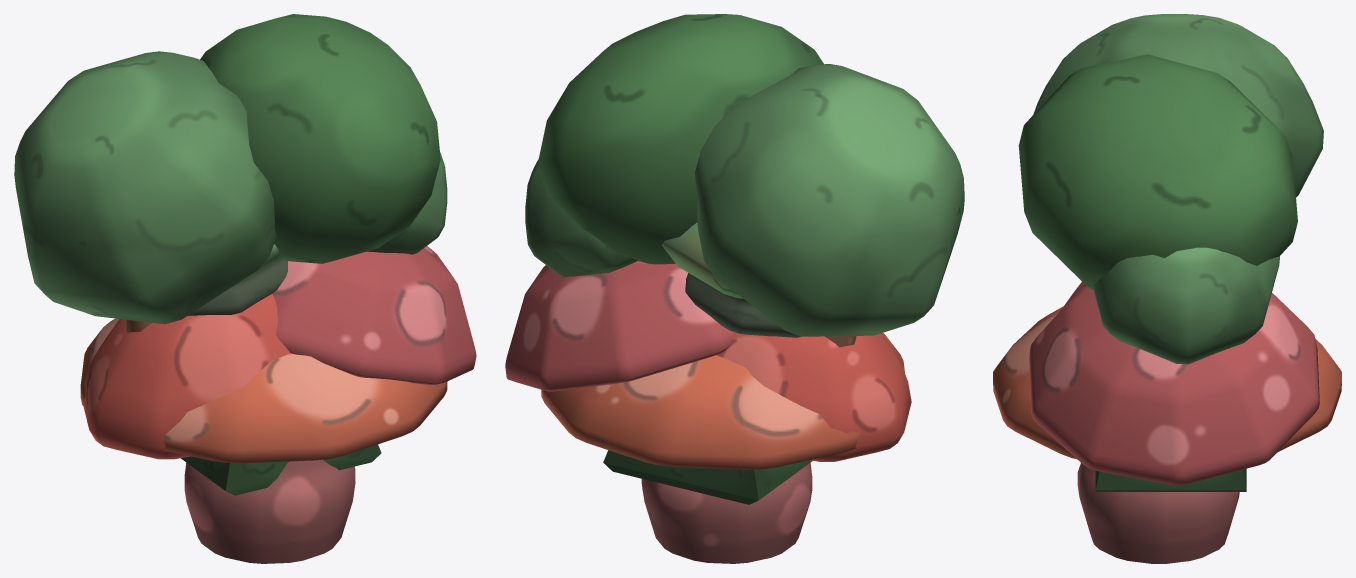
The model's file is arboles003.fbx.
3 renders of one model, left to right at view 1: azimuth 30°, elevation 25°; view 2: azimuth 150°, elevation 25°; view 3: azimuth 270°, elevation 25°, orthographic. The views are drawn at different scales.
Visible parts, largest first — view 1: Arbol_pelon_02_Uvs, Hojas_05, Cabeza, Base_02.001, Base_02, Hojas_01.003, Hojas_06; view 2: Arbol_pelon_02_Uvs, Hojas_05, Cabeza, Base_02.001, Base_02, Hojas_01.003, Hojas_06; view 3: Hojas_05, Base_02.001, Arbol_pelon_02_Uvs, Cabeza, Hojas_01.003.
Boxes of the visible parts, bbox=[...] form: Arbol_pelon_02_Uvs: bbox=[14, 51, 447, 324]; Hojas_05: bbox=[79, 14, 440, 332]; Cabeza: bbox=[80, 318, 447, 563]; Base_02.001: bbox=[272, 246, 476, 384]; Base_02: bbox=[83, 294, 291, 459]; Hojas_01.003: bbox=[181, 444, 381, 495]; Hojas_06: bbox=[188, 244, 287, 315]; Arbol_pelon_02_Uvs: bbox=[525, 64, 964, 336]; Hojas_05: bbox=[538, 14, 959, 347]; Cabeza: bbox=[541, 333, 904, 563]; Base_02.001: bbox=[505, 261, 732, 391]; Base_02: bbox=[716, 331, 911, 461]; Hojas_01.003: bbox=[603, 450, 812, 504]; Hojas_06: bbox=[662, 222, 800, 337]; Hojas_05: bbox=[1018, 54, 1297, 289]; Base_02.001: bbox=[1029, 285, 1319, 485]; Arbol_pelon_02_Uvs: bbox=[1033, 14, 1323, 364]; Cabeza: bbox=[993, 306, 1341, 563]; Hojas_01.003: bbox=[1095, 468, 1246, 491].
Bounding box in the file's own units: 389 × 443 × 292.
Materials: 1 (1 with a texture image).
